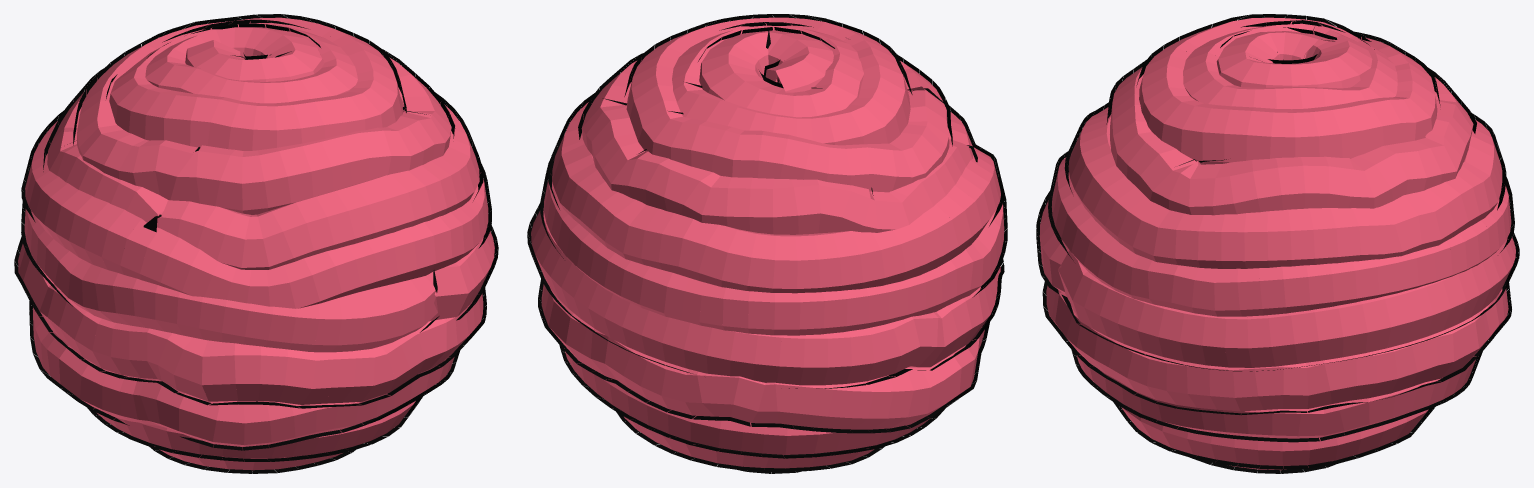
The model's file is Enemy1.fbx.
3 renders of one model, left to right at view 1: azimuth 30°, elevation 25°; view 2: azimuth 150°, elevation 25°; view 3: azimuth 270°, elevation 25°, orthographic.
Parts seen in each view (by area): view 1: Cylinder.001; view 2: Cylinder.001; view 3: Cylinder.001.
Boxes of the visible parts, x1,y1,x2,y2 form: Cylinder.001: (14, 14, 498, 473); Cylinder.001: (527, 14, 1007, 473); Cylinder.001: (1036, 14, 1519, 473).
Size of the model in its own units: 252 by 237 by 255.
